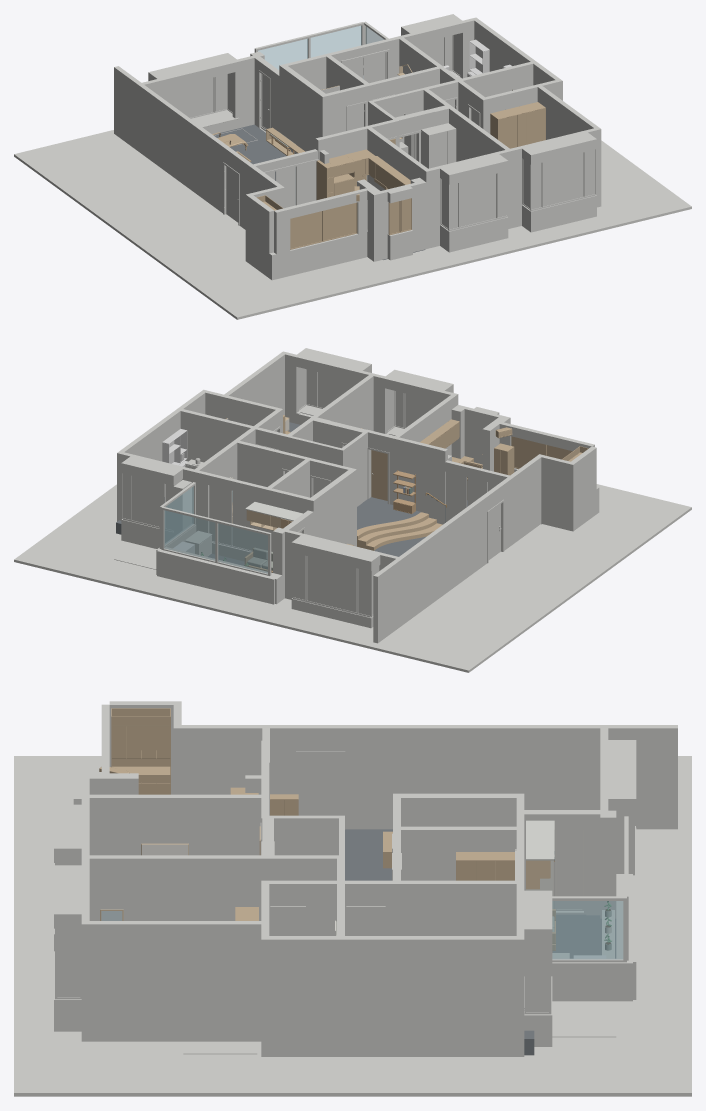
Rendered from interaction_proxy.glb.
3 views of the same model, one above another, from view 1: azimuth 30°, elevation 25°; view 2: azimuth 150°, elevation 25°; view 3: azimuth 270°, elevation 25° (orthographic). The views are drawn at different scales.
Visible parts, largest first — view 1: SITE_GROUND.001, VIEW_WALL_W_wall_md_0006.001, VIEW_WALL_LIVING_FIX_GUEST_BATH_FULL_WALL.001, VIEW_WALL_W_wall_md_0042.001, VIEW_WALL_W_wall_md_0035.001, V4_W-MB-S_FRONT_GLASS_1.001, VIEW_WALL_W_wall_md_0034.001, V4_W-SMB-S_FRONT_GLASS_1.001, VIEW_WALL_W_wall_md_0007.001, VIEW_WALL_W_wall_md_0021.001, VIEW_WALL_W_wall_md_0030.001, VIEW_WALL_W_wall_md_0060.001 (+46 smaller); view 2: SITE_GROUND.001, VIEW_WALL_W_wall_md_0006.001, VIEW_WALL_W_wall_md_0062.001, VIEW_WALL_W_wall_md_0005.001, VIEW_WALL_W_wall_md_0044.001, VIEW_WALL_W_wall_md_0043.001, VIEW_WALL_LIVING_FIX_GUEST_BATH_FULL_WALL.001, LIVING_FIX_BAY_FRONT_GLASS_1.001, VIEW_WALL_W_wall_md_0049.001, VIEW_WALL_W_wall_md_0055.001, NORTH_BALCONY_GLASS_NORTH_B.001, VIEW_WALL_W_wall_md_0007.001 (+55 smaller); view 3: SITE_GROUND.001, VIEW_WALL_W_wall_md_0030.001, VIEW_WALL_W_wall_md_0033.001, VIEW_WALL_W_wall_md_0006.001, VIEW_WALL_W_wall_md_0021.001, VIEW_WALL_W_wall_md_0015.001, VIEW_WALL_W_wall_md_0032.001, VIEW_WALL_W_wall_md_0005.001, VIEW_WALL_W_wall_md_0025.001, VIEW_WALL_W_wall_md_0007.001, VIEW_WALL_W_wall_md_0019.001, NORTH_BALCONY_GLASS_EAST.001 (+37 smaller).
Part boxes in pixels (<box>): SITE_GROUND.001: <box>14,128,691,319</box>; VIEW_WALL_W_wall_md_0006.001: <box>139,85,227,212</box>; VIEW_WALL_LIVING_FIX_GUEST_BATH_FULL_WALL.001: <box>282,66,325,153</box>; VIEW_WALL_W_wall_md_0042.001: <box>276,232,367,278</box>; VIEW_WALL_W_wall_md_0035.001: <box>533,139,594,231</box>; V4_W-MB-S_FRONT_GLASS_1.001: <box>543,152,583,206</box>; VIEW_WALL_W_wall_md_0034.001: <box>451,161,505,251</box>; V4_W-SMB-S_FRONT_GLASS_1.001: <box>460,174,496,226</box>; VIEW_WALL_W_wall_md_0007.001: <box>114,66,141,150</box>; VIEW_WALL_W_wall_md_0021.001: <box>449,107,509,161</box>; VIEW_WALL_W_wall_md_0030.001: <box>537,86,598,139</box>; VIEW_WALL_W_wall_md_0060.001: <box>232,55,254,128</box>; SITE_GROUND.001: <box>14,484,691,672</box>; VIEW_WALL_W_wall_md_0006.001: <box>399,495,487,624</box>; VIEW_WALL_W_wall_md_0062.001: <box>157,547,277,604</box>; VIEW_WALL_W_wall_md_0005.001: <box>499,456,541,550</box>; VIEW_WALL_W_wall_md_0044.001: <box>396,437,441,523</box>; VIEW_WALL_W_wall_md_0043.001: <box>541,455,575,531</box>; VIEW_WALL_LIVING_FIX_GUEST_BATH_FULL_WALL.001: <box>311,470,354,545</box>; LIVING_FIX_BAY_FRONT_GLASS_1.001: <box>307,556,356,612</box>; VIEW_WALL_W_wall_md_0049.001: <box>180,409,253,462</box>; VIEW_WALL_W_wall_md_0055.001: <box>196,470,266,561</box>; NORTH_BALCONY_GLASS_NORTH_B.001: <box>164,510,215,560</box>; VIEW_WALL_W_wall_md_0007.001: <box>373,559,400,643</box>; SITE_GROUND.001: <box>14,756,691,1096</box>; VIEW_WALL_W_wall_md_0030.001: <box>89,921,261,1041</box>; VIEW_WALL_W_wall_md_0033.001: <box>345,936,516,1056</box>; VIEW_WALL_W_wall_md_0006.001: <box>345,725,600,829</box>; VIEW_WALL_W_wall_md_0021.001: <box>89,855,261,920</box>; VIEW_WALL_W_wall_md_0015.001: <box>89,794,261,855</box>; VIEW_WALL_W_wall_md_0032.001: <box>261,936,336,1056</box>; VIEW_WALL_W_wall_md_0005.001: <box>181,725,296,794</box>; VIEW_WALL_W_wall_md_0025.001: <box>401,880,516,935</box>; VIEW_WALL_W_wall_md_0007.001: <box>608,725,677,829</box>; VIEW_WALL_W_wall_md_0019.001: <box>401,826,516,880</box>; NORTH_BALCONY_GLASS_EAST.001: <box>552,901,623,959</box>.
Bounding box in the file's own units: 20 × 3.37 × 17.
